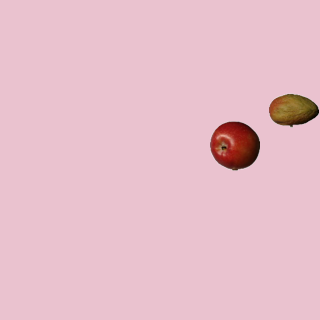Apple Braeburn: (209, 120, 259, 170)
Papaya: (268, 85, 318, 135)
